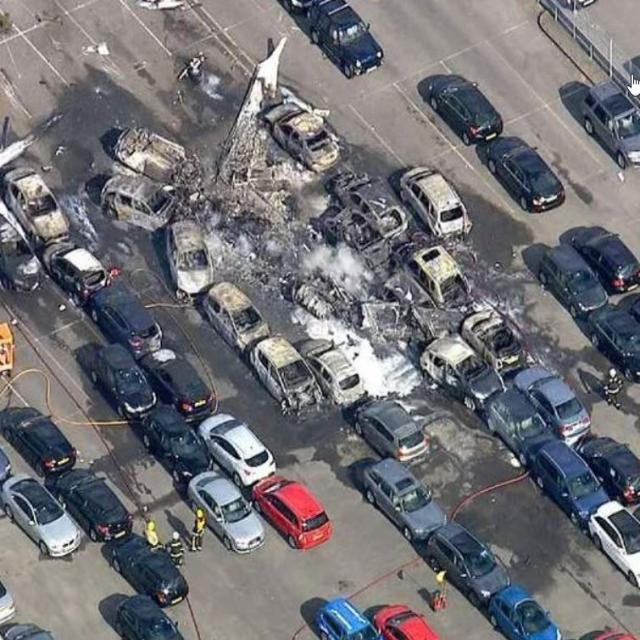traffic_incident: (88, 92, 525, 411), (0, 149, 81, 275)
